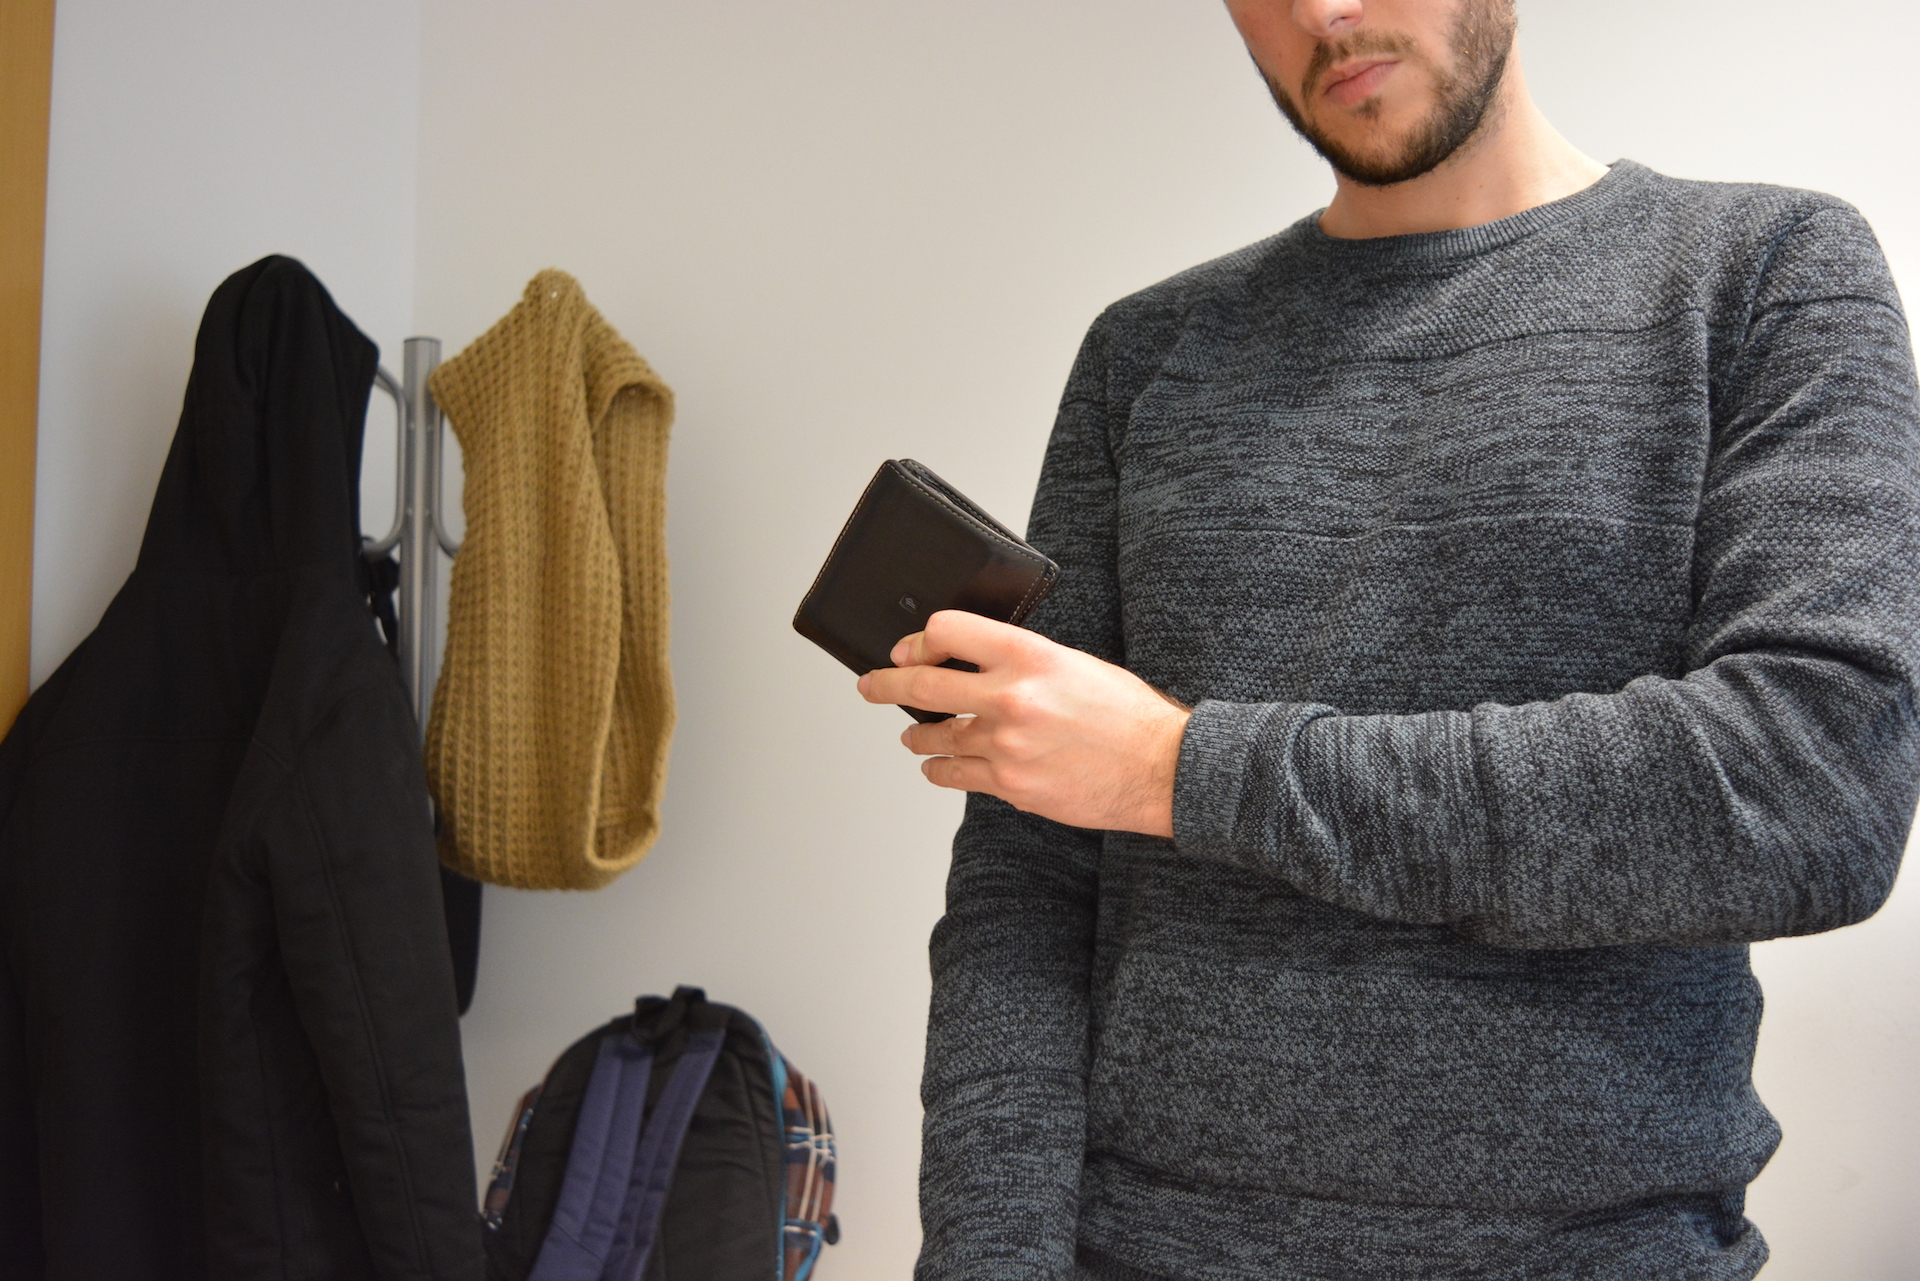monedero: (791, 457, 1064, 725)
